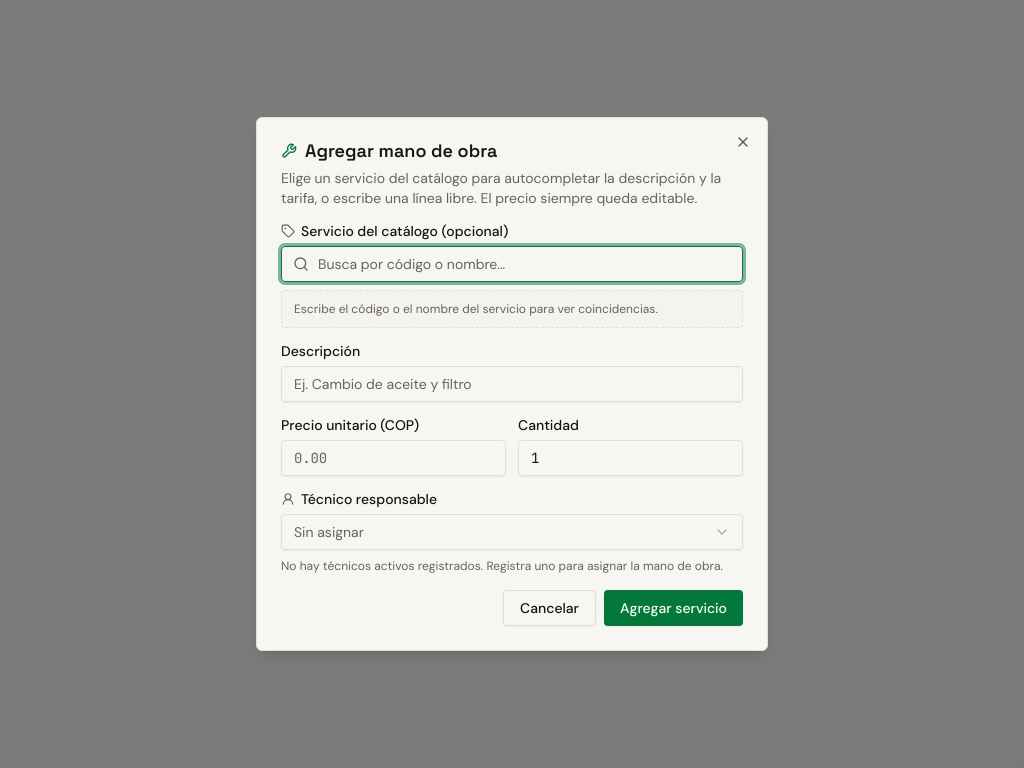
AddLaborDialog › rejects an empty description with a Spanish error and does not save
The width and height of the screenshot is (1024, 768).
Click the button with test id "order_detail.add_labor.submit_button". click: click(674, 608)
box: [604,590,743,626]
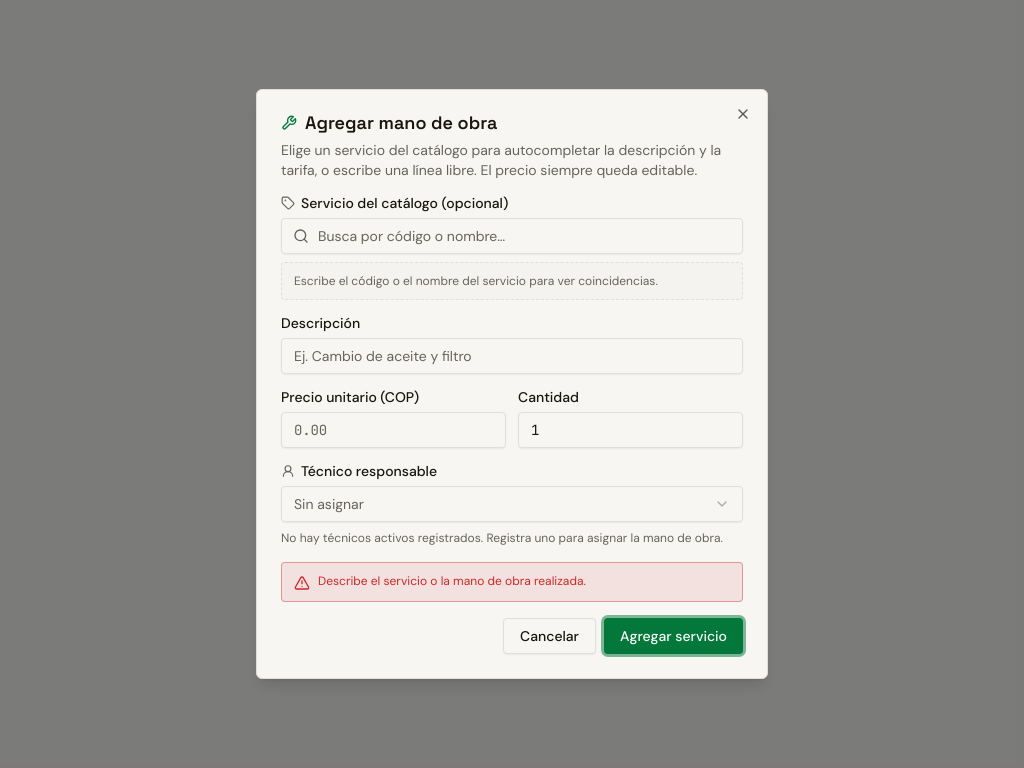
Result: the element with test id "order_detail.add_labor.error_state" reads "Describe el servicio o la mano de obra realizada." at [318,573,586,589]
